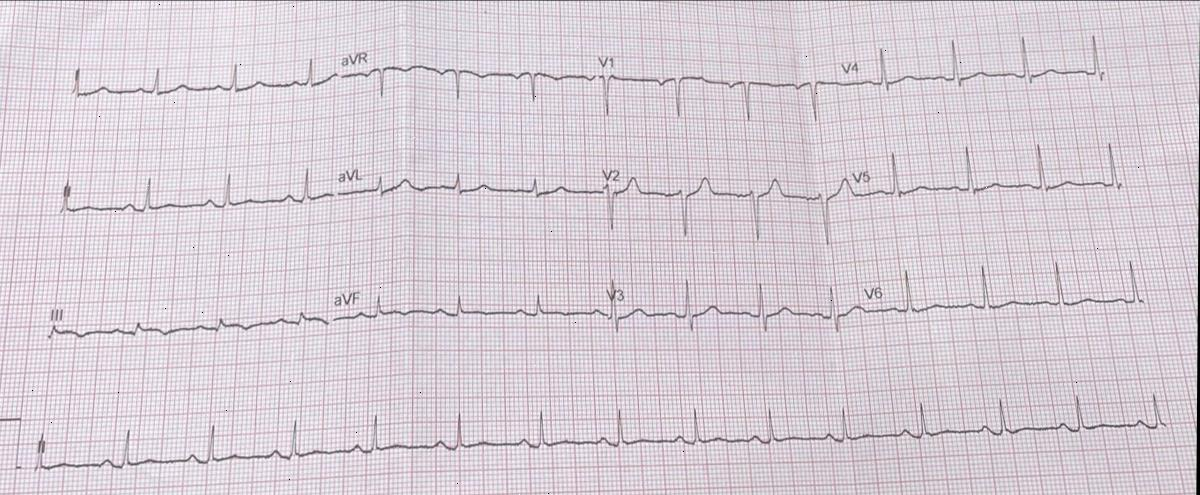Lead_I: (68, 48, 343, 113)
Lead_II: (49, 164, 342, 221)
Lead_III: (38, 292, 332, 357)
Lead_II_ext: (27, 387, 1183, 481)
Lead_V1: (595, 38, 828, 136)
Lead_V2: (597, 155, 846, 258)
Lead_V3: (600, 262, 857, 348)
Lead_V4: (829, 30, 1120, 104)
Lead_V5: (843, 129, 1134, 218)
Lead_V6: (850, 244, 1162, 328)
Lead_aVF: (329, 278, 608, 348)
Lead_aVL: (336, 152, 607, 226)
Lead_aVR: (334, 38, 597, 118)
